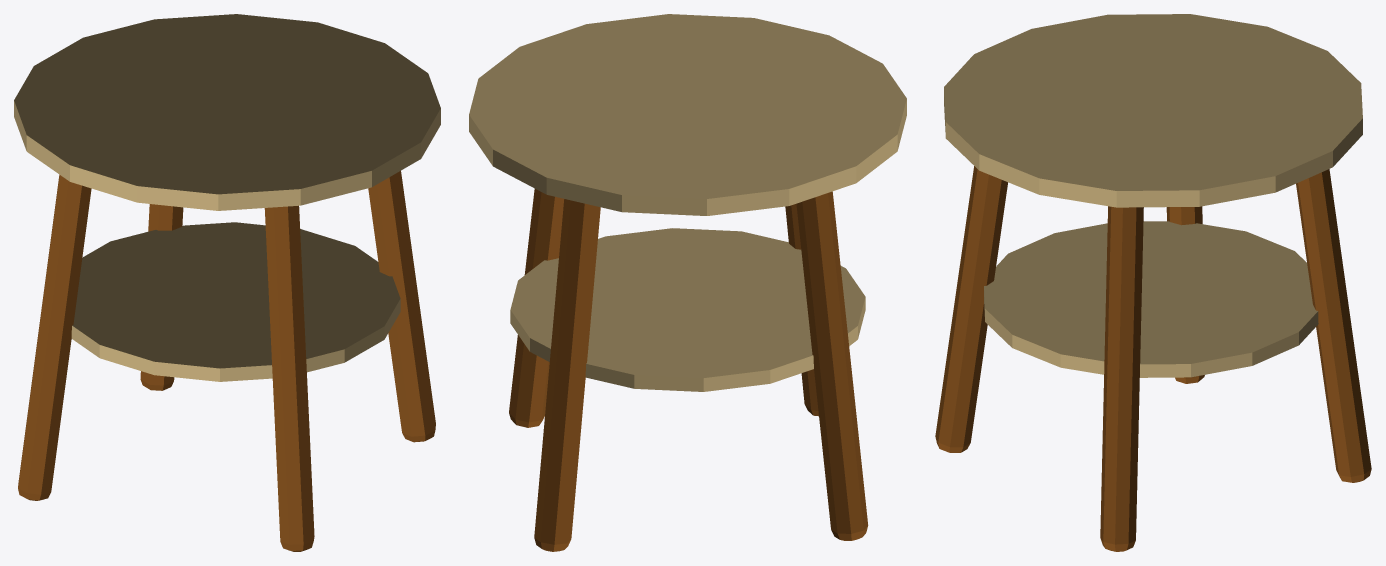
The model's file is Coffee Table 1.fbx.
The picture shows the model from 3 angles, left to right: view 1: azimuth 30°, elevation 25°; view 2: azimuth 150°, elevation 25°; view 3: azimuth 270°, elevation 25°; orthographic projection. The views are drawn at different scales.
Parts seen in each view (by area): view 1: Node 0; view 2: Node 0; view 3: Node 0.
Part boxes in pixels (x1,y1,x2,y2): Node 0: (14, 14, 440, 551); Node 0: (469, 14, 906, 551); Node 0: (935, 14, 1371, 551).
Size of the model in its own units: 0.7153 by 0.656 by 0.7153.
